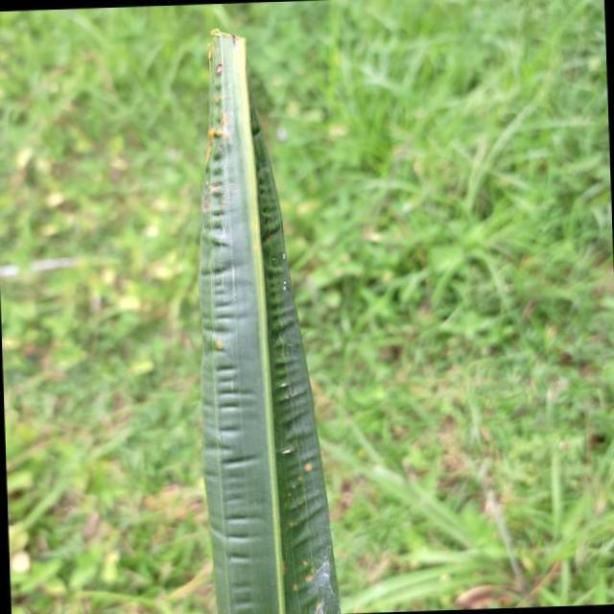Boron: (195, 21, 342, 614)
